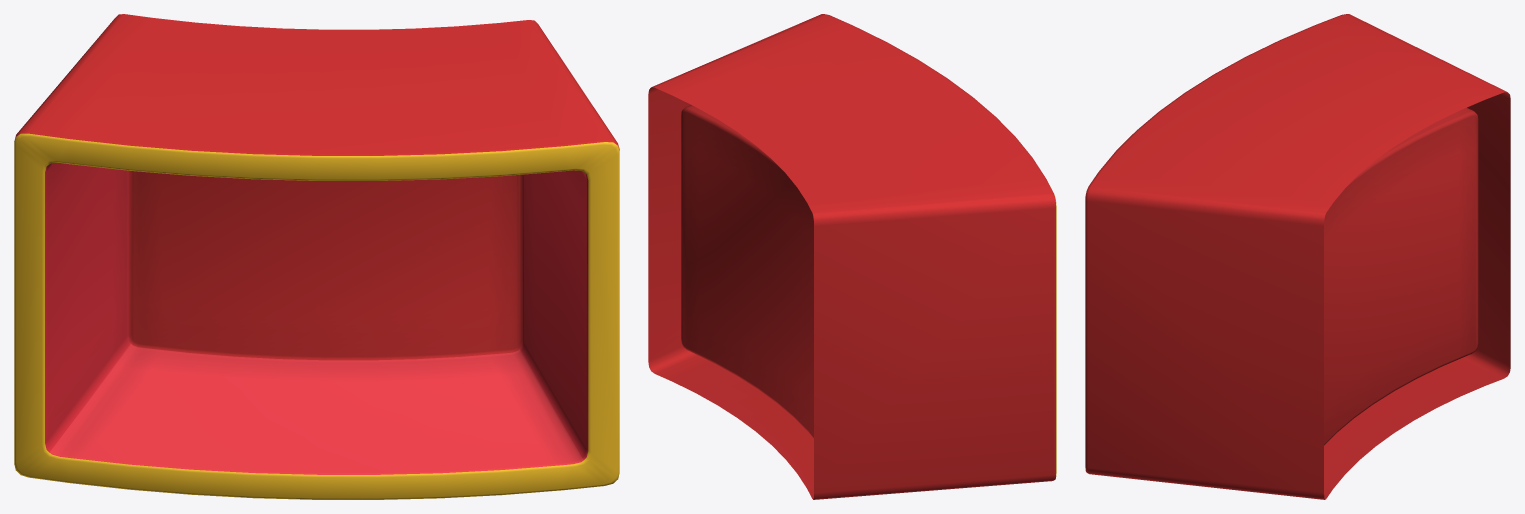
Rendered from guizi_06.FBX.
3 views of the same model, side by side, from view 1: azimuth 30°, elevation 25°; view 2: azimuth 150°, elevation 25°; view 3: azimuth 270°, elevation 25° (orthographic). The views are drawn at different scales.
Parts seen in each view (by area): view 1: guizi_06; view 2: guizi_06; view 3: guizi_06.
Part boxes in pixels (left/top/right/bottom): guizi_06: left=14, top=14, right=619, bottom=499; guizi_06: left=648, top=14, right=1056, bottom=499; guizi_06: left=1085, top=14, right=1510, bottom=499.
Size of the model in its own units: 261 by 169 by 228.
1 material, 1 textured.
